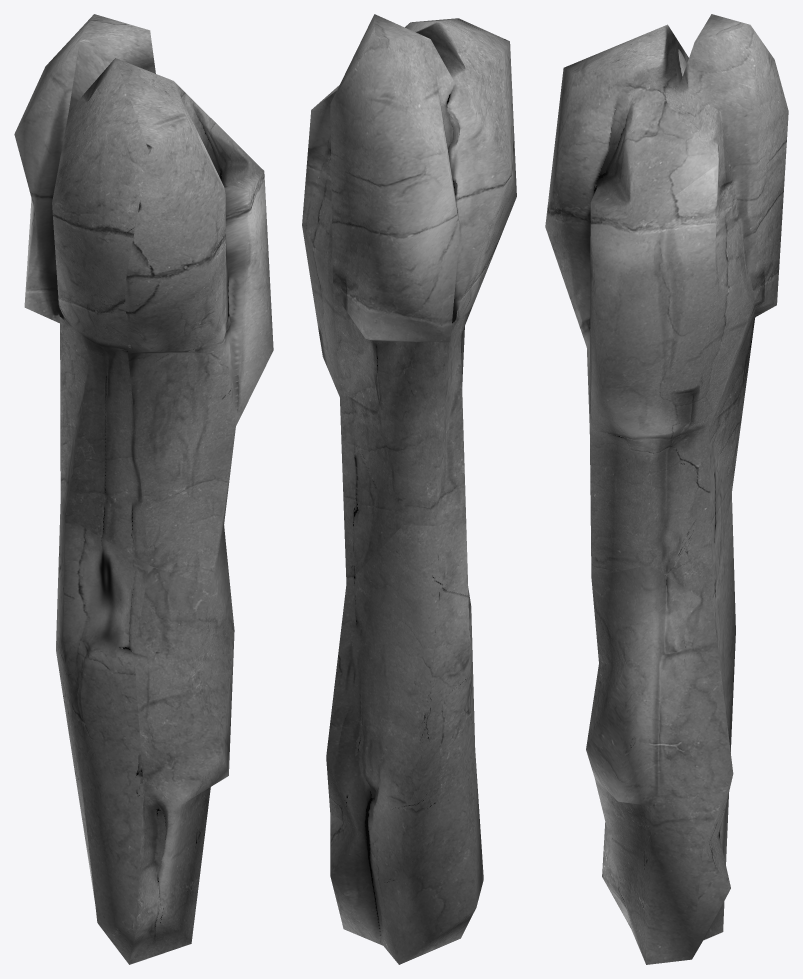
Rendered from ROCK_10.FBX.
The picture shows the model from 3 angles, left to right: view 1: azimuth 30°, elevation 25°; view 2: azimuth 150°, elevation 25°; view 3: azimuth 270°, elevation 25°; orthographic projection. The views are drawn at different scales.
Visible parts, largest first — view 1: 10; view 2: 10; view 3: 10.
Part boxes in pixels (x1,y1,x2,y2): 10: (14,14,273,964); 10: (302,14,516,964); 10: (545,14,788,964).
Bounding box in the file's own units: 197 × 855 × 206.
Materials: 1 (1 with a texture image).
